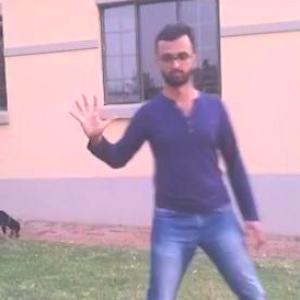follow_hand: (64, 88, 117, 141)
